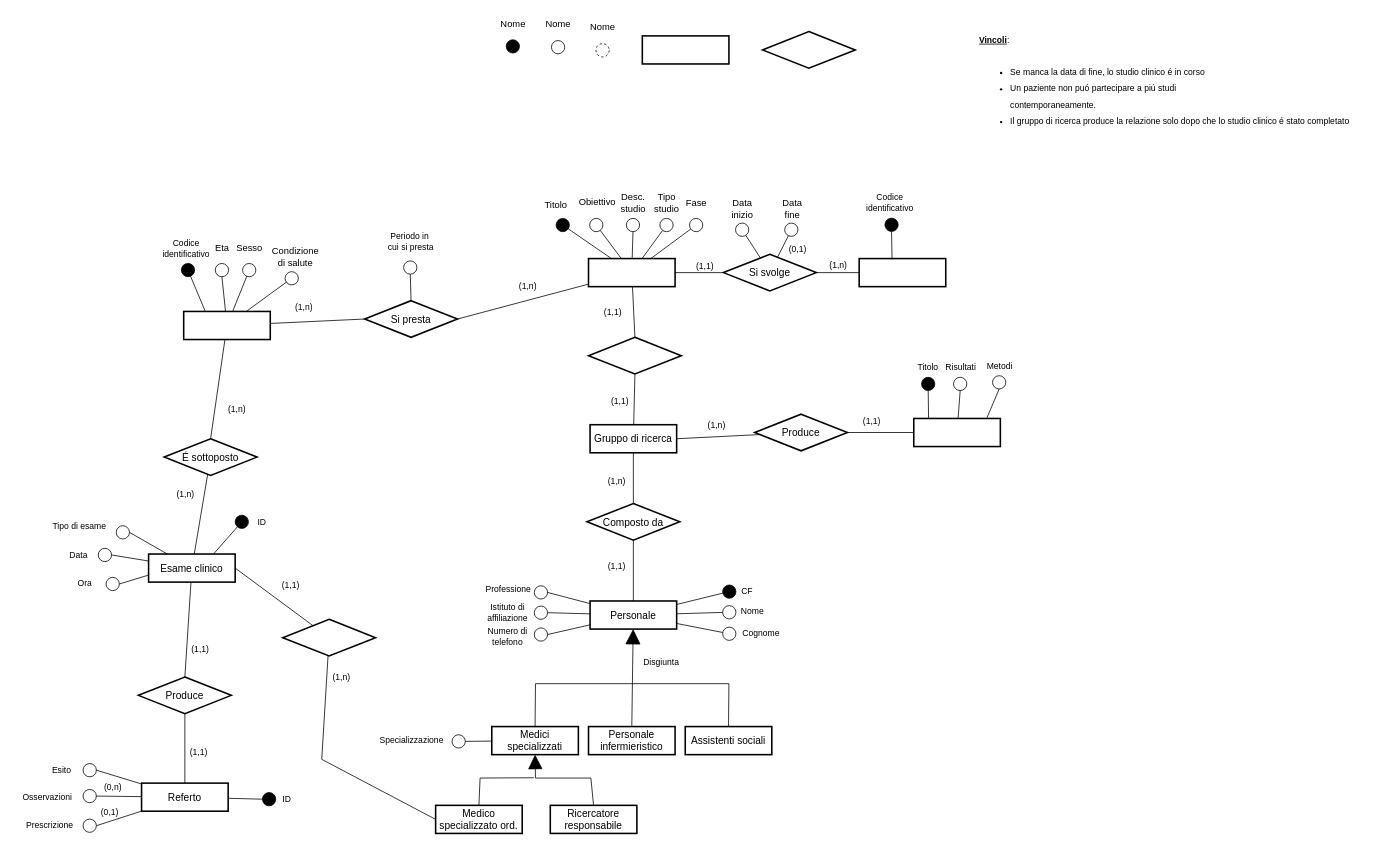
Image size: 1398x849. Some labels were removed from this diagram. Each missing label, with the centre of its shape:
"Conduce" goes at [634,355].
"Esegue" goes at [329,637].
"Istituto" goes at [902,272].
"Laboratorio" goes at [685,49].
"Paziente" goes at [227,325].
"Relazione finale" goes at [957,432].
"Sottomette" goes at [808,49].
"Studio clinico" goes at [631,272].
